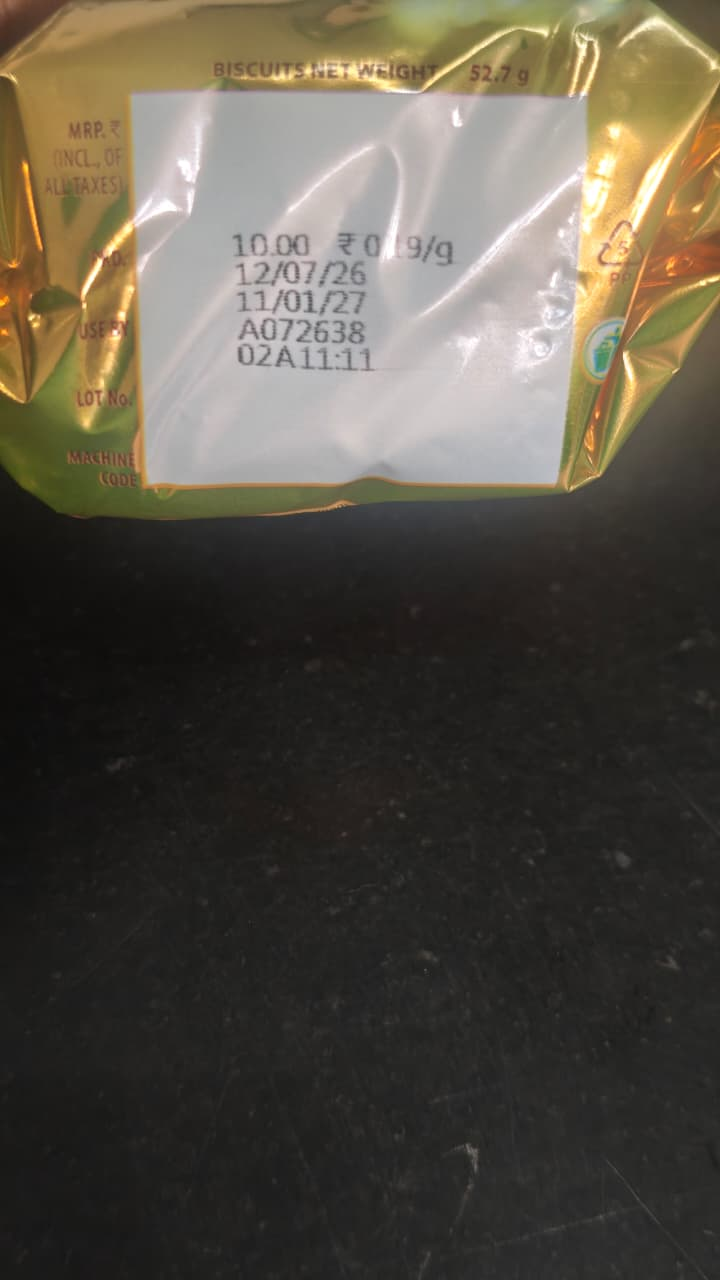EXP_Date: (224, 288, 386, 316)
MFG_Date: (228, 262, 394, 292)
MRP: (214, 218, 327, 255)
